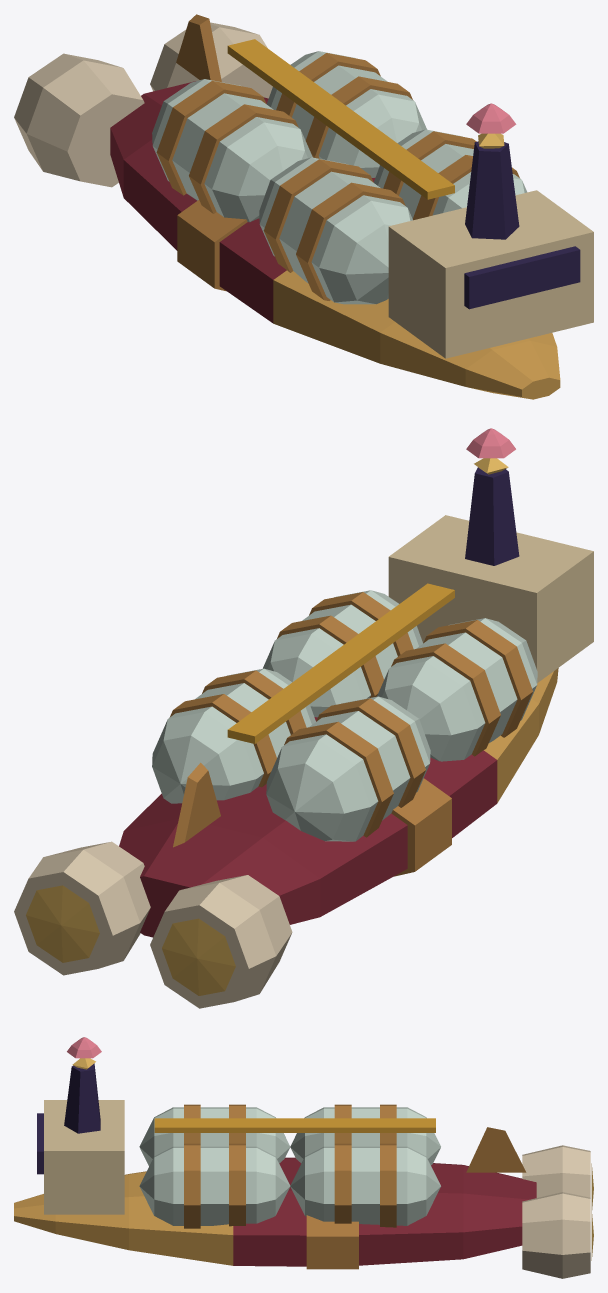
File: barge_adrift.gltf
3 views of the same model, one above another, from view 1: azimuth 30°, elevation 25°; view 2: azimuth 150°, elevation 25°; view 3: azimuth 270°, elevation 25° (orthographic). The views are drawn at different scales.
Visible parts, largest first — view 1: hull, tanks, cab, tanks_fore, engines, stripe, distress, cab_window, pennant; view 2: hull, tanks, engines, tanks_fore, cab, stripe, distress, pennant; view 3: hull, tanks_fore, tanks, engines, cab, stripe, distress, pennant, cab_window.
Part boxes in pixels (x1=…): hull: x1=110, y1=81, x2=560, y2=399; tanks: x1=152, y1=51, x2=426, y2=222; cab: x1=388, y1=190, x2=593, y2=358; tanks_fore: x1=259, y1=129, x2=527, y2=304; engines: x1=14, y1=22, x2=272, y2=187; stripe: x1=227, y1=39, x2=454, y2=199; distress: x1=465, y1=103, x2=519, y2=239; cab_window: x1=464, y1=246, x2=580, y2=309; pennant: x1=176, y1=14, x2=221, y2=81; hull: x1=119, y1=668, x2=558, y2=937; tanks: x1=152, y1=668, x2=430, y2=841; engines: x1=14, y1=841, x2=292, y2=1008; tanks_fore: x1=263, y1=590, x2=537, y2=761; cab: x1=388, y1=515, x2=593, y2=682; stripe: x1=227, y1=583, x2=454, y2=743; distress: x1=465, y1=428, x2=519, y2=565; pennant: x1=173, y1=762, x2=220, y2=847; hull: x1=14, y1=1157, x2=536, y2=1269; tanks_fore: x1=139, y1=1104, x2=290, y2=1228; tanks: x1=290, y1=1104, x2=440, y2=1227; engines: x1=522, y1=1145, x2=593, y2=1278; cab: x1=44, y1=1100, x2=124, y2=1214; stripe: x1=154, y1=1118, x2=435, y2=1132; distress: x1=64, y1=1037, x2=101, y2=1133; pennant: x1=466, y1=1127, x2=526, y2=1172; cab_window: x1=37, y1=1113, x2=43, y2=1174.
Bounding box in the file's own units: 2.02 × 2.38 × 5.77.
